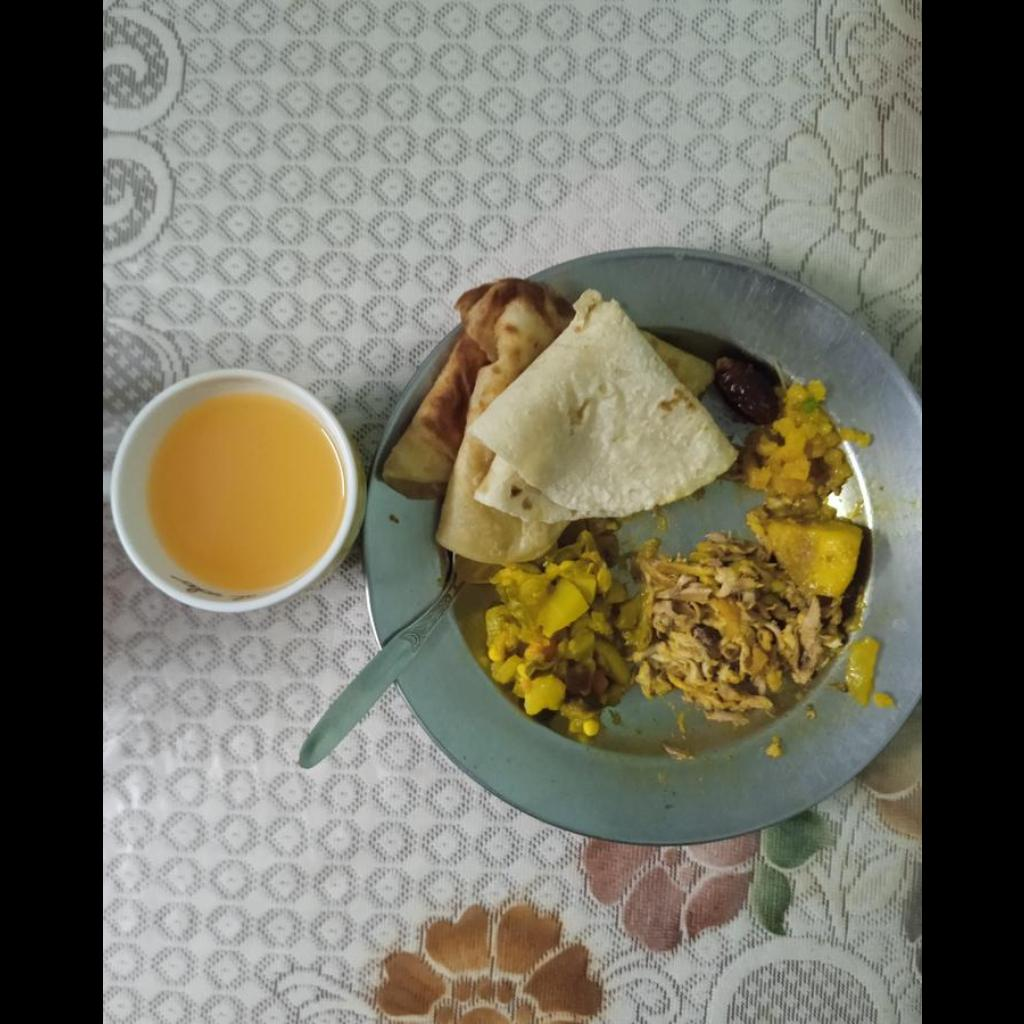burinda: (741, 381, 851, 517)
chicken: (625, 534, 843, 721)
dates: (714, 356, 778, 424)
juice: (145, 401, 343, 587)
potato: (746, 509, 862, 598)
ruti: (380, 281, 734, 560)
vegetable: (484, 534, 653, 742)
